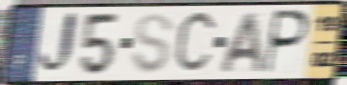5: (76, 11, 126, 77)
A: (217, 10, 266, 75)
C: (172, 8, 219, 79)
J: (36, 9, 81, 79)
P: (261, 8, 311, 76)
S: (129, 11, 175, 76)
